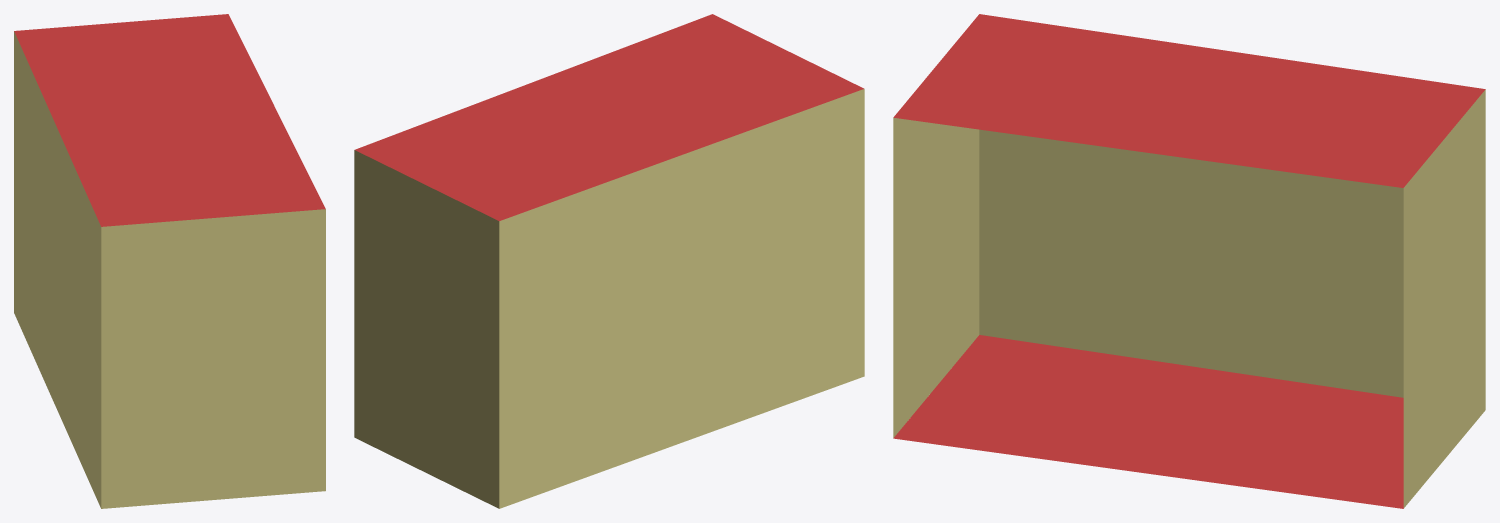
3 views of the same model, side by side, from view 1: azimuth 30°, elevation 25°; view 2: azimuth 150°, elevation 25°; view 3: azimuth 270°, elevation 25° (orthographic). The views are drawn at different scales.
Parts seen in each view (by area): view 1: group_4, group_3; view 2: group_4, group_3; view 3: group_4, group_3, group_5.
Part boxes in pixels (x1,y1,x2,y2): group_4: [14, 31, 325, 508]; group_3: [14, 14, 325, 226]; group_4: [354, 89, 864, 508]; group_3: [355, 14, 863, 221]; group_4: [893, 90, 1485, 508]; group_3: [893, 14, 1485, 187]; group_5: [893, 335, 1403, 508].
Bounding box in the file's own units: 7.71 × 11.08 × 6.62.
